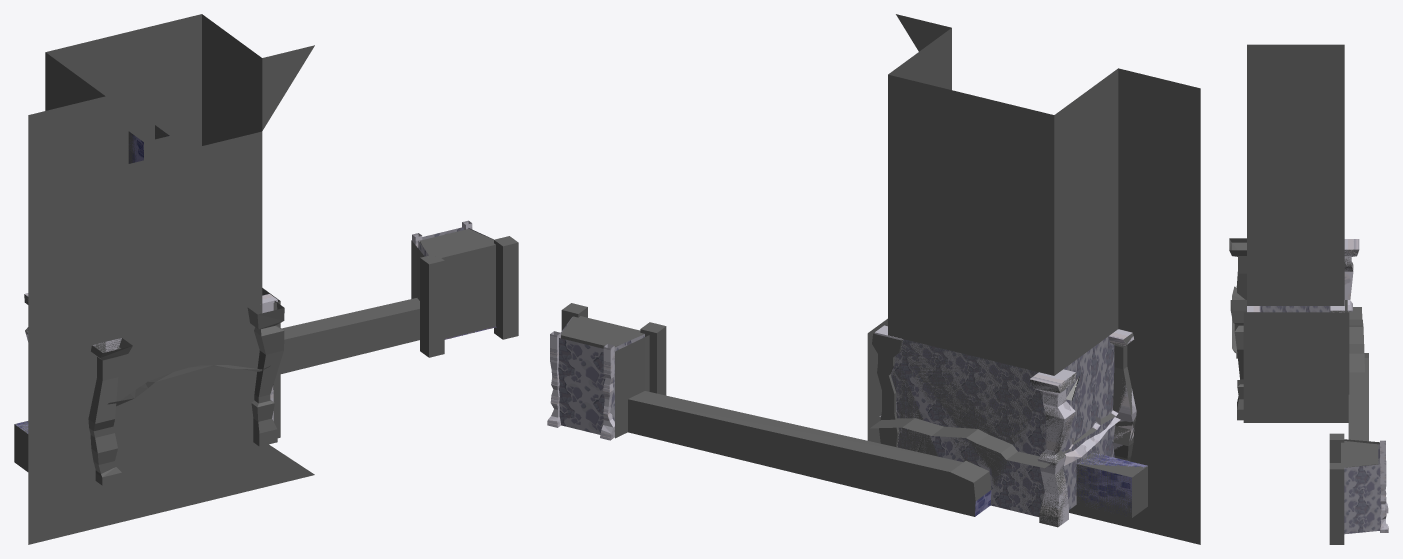
Rendered from jin_06_bake_split.dae.
3 views of the same model, side by side, from view 1: azimuth 30°, elevation 25°; view 2: azimuth 150°, elevation 25°; view 3: azimuth 270°, elevation 25° (orthographic). The views are drawn at different scales.
Visible parts, largest first — view 1: MASUKU, A_kabe, a_hasira, S_kabe_part1, polySurface1069, a_gawa02, polySurface1067, a_hari; view 2: MASUKU, S_kabe_part1, A_kabe, S_kabe_part0, polySurface1069, a_hasira, polySurface42_q035, kakusi_part0, a_be, kakusi1, a_hari, polySurface1064 (+4 smaller); view 3: A_kabe, MASUKU, pPlane9, S_kabe_part1, kakusi_part0, a_hasira, polySurface1067, polySurface1069, a_hari, a_gawa02, polySurface42_q035, polySurface42_q036 (+1 smaller).
Boxes of the visible parts, x1,y1,x2,y2 form: MASUKU: (28,14,314,544); A_kabe: (105,87,262,474); a_hasira: (24,294,284,485); S_kabe_part1: (105,87,261,169); polySurface1069: (280,298,419,373); a_gawa02: (420,229,495,338); polySurface1067: (420,236,518,357); a_hari: (107,125,270,406); MASUKU: (888,14,1200,544); S_kabe_part1: (888,146,1118,375); A_kabe: (888,147,1118,516); S_kabe_part0: (890,336,1115,516); polySurface1069: (628,391,991,516); a_hasira: (872,332,1136,527); polySurface42_q035: (874,325,1136,526); kakusi_part0: (558,317,644,434); a_be: (1076,452,1146,517); kakusi1: (615,335,649,438); a_hari: (870,413,1115,468); polySurface1064: (1076,453,1147,516); A_kabe: (1247,104,1344,305); MASUKU: (1247,44,1344,166); pPlane9: (1243,312,1349,422); S_kabe_part1: (1247,104,1344,305); kakusi_part0: (1344,441,1381,534); a_hasira: (1229,238,1358,420); polySurface1067: (1329,433,1344,544); polySurface1069: (1348,353,1368,441); a_hari: (1232,286,1364,372); a_gawa02: (1341,441,1378,467); polySurface42_q035: (1247,239,1359,312); polySurface42_q036: (1380,440,1388,532).
Bounding box in the file's own units: 104 × 78.71 × 32.63.
